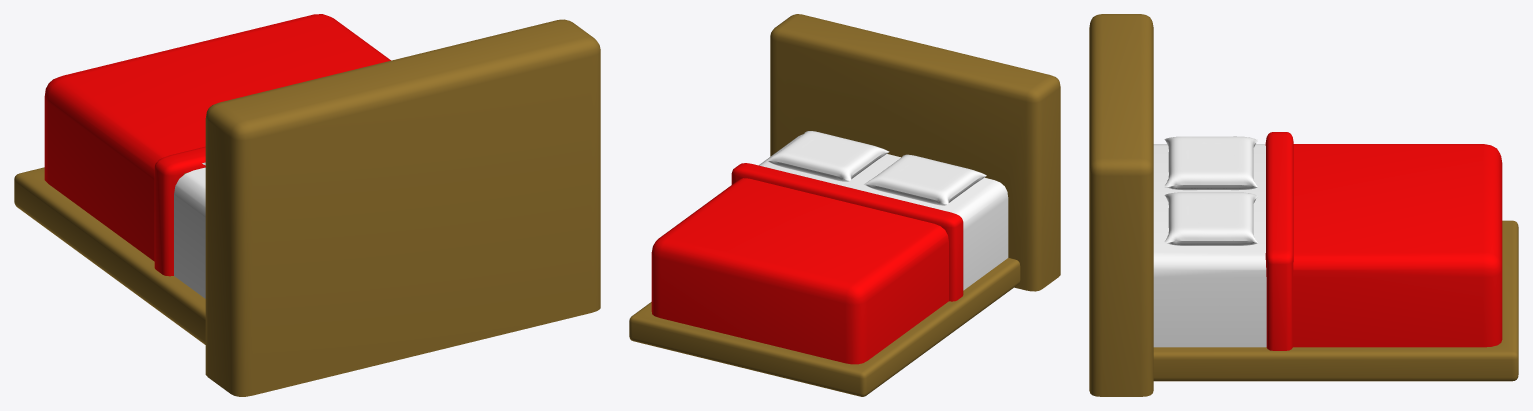
The model's file is Cama.fbx.
3 renders of one model, left to right at view 1: azimuth 30°, elevation 25°; view 2: azimuth 150°, elevation 25°; view 3: azimuth 270°, elevation 25°, orthographic. The views are drawn at different scales.
Visible parts, largest first — view 1: Cama; view 2: Cama; view 3: Cama.
Part boxes in pixels (left/top/right/bottom): Cama: left=14, top=14, right=600, bottom=396; Cama: left=629, top=14, right=1060, bottom=396; Cama: left=1089, top=14, right=1518, bottom=396.
Size of the model in its own units: 223 by 156 by 262.
